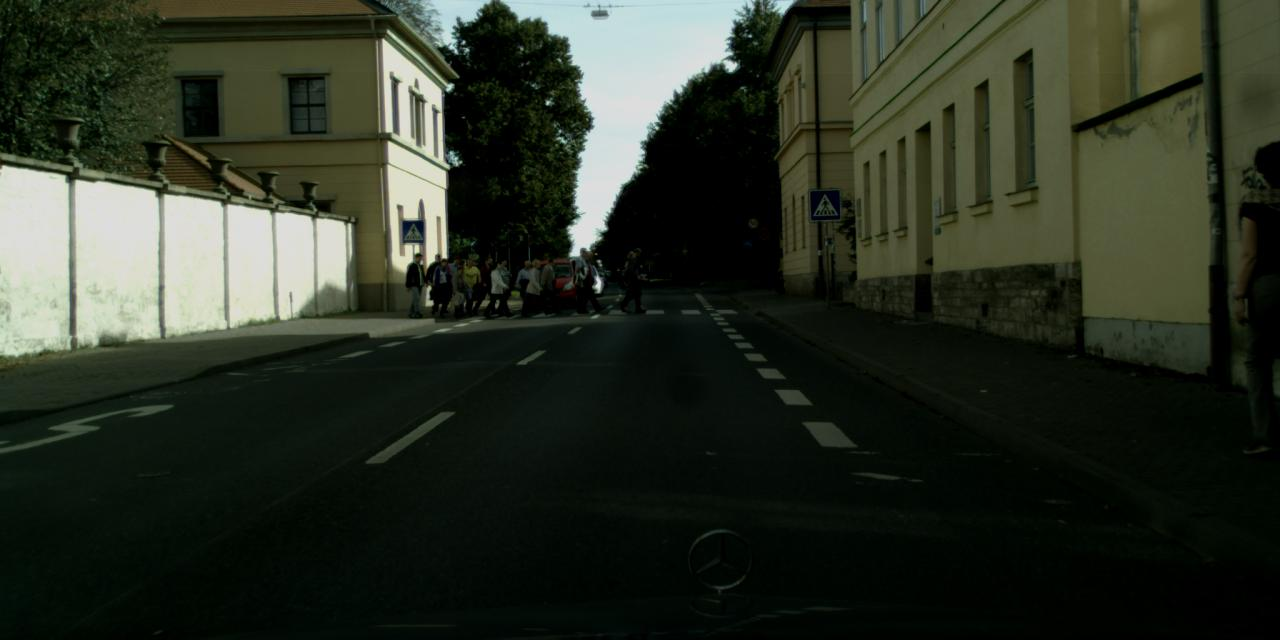ped: (1212, 140, 1279, 452), (572, 246, 607, 316), (482, 256, 514, 321), (619, 246, 646, 314), (403, 252, 429, 317), (524, 258, 548, 317), (426, 253, 450, 311), (456, 258, 479, 314), (476, 257, 498, 315), (430, 258, 452, 314), (538, 258, 560, 313), (518, 260, 539, 312), (449, 266, 469, 316), (448, 256, 466, 280)
